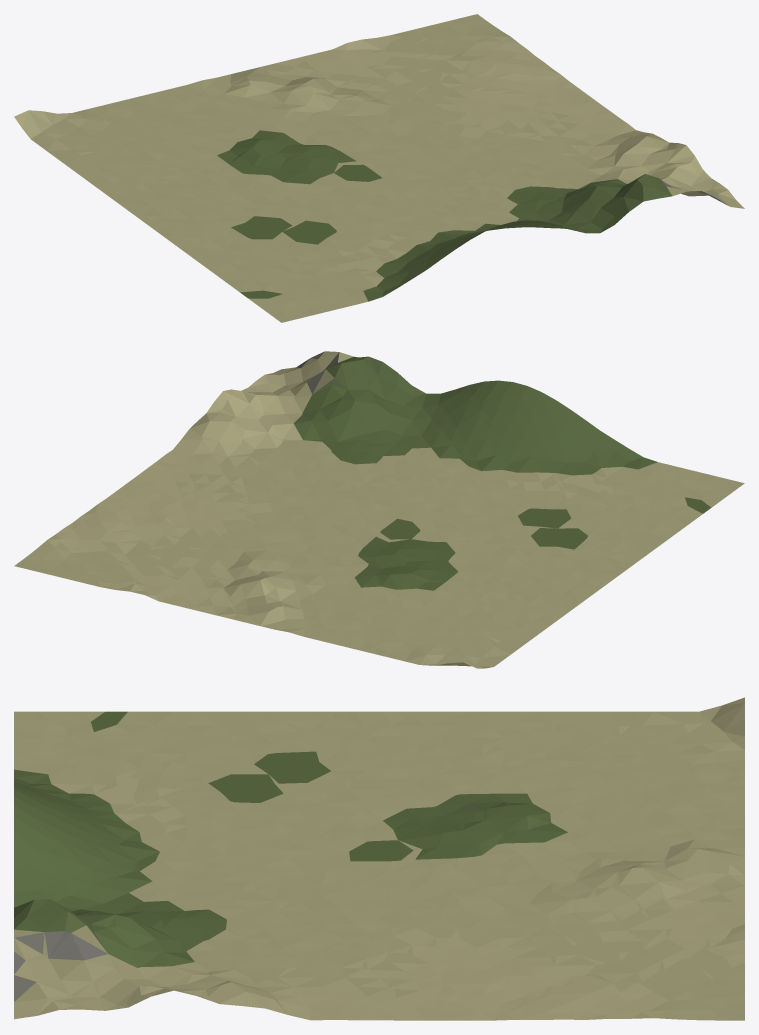
The model's file is Ground_-2_-6.glb.
3 renders of one model, top to bottom at view 1: azimuth 30°, elevation 25°; view 2: azimuth 150°, elevation 25°; view 3: azimuth 270°, elevation 25°, orthographic. The views are drawn at different scales.
Visible parts, largest first — view 1: Ground_-2_-6; view 2: Ground_-2_-6; view 3: Ground_-2_-6.
Part boxes in pixels (x1=…): Ground_-2_-6: x1=14, y1=14, x2=744, y2=322; Ground_-2_-6: x1=14, y1=351, x2=744, y2=668; Ground_-2_-6: x1=14, y1=697, x2=744, y2=1020.
Bounding box in the file's own units: 768 × 70.77 × 768.
